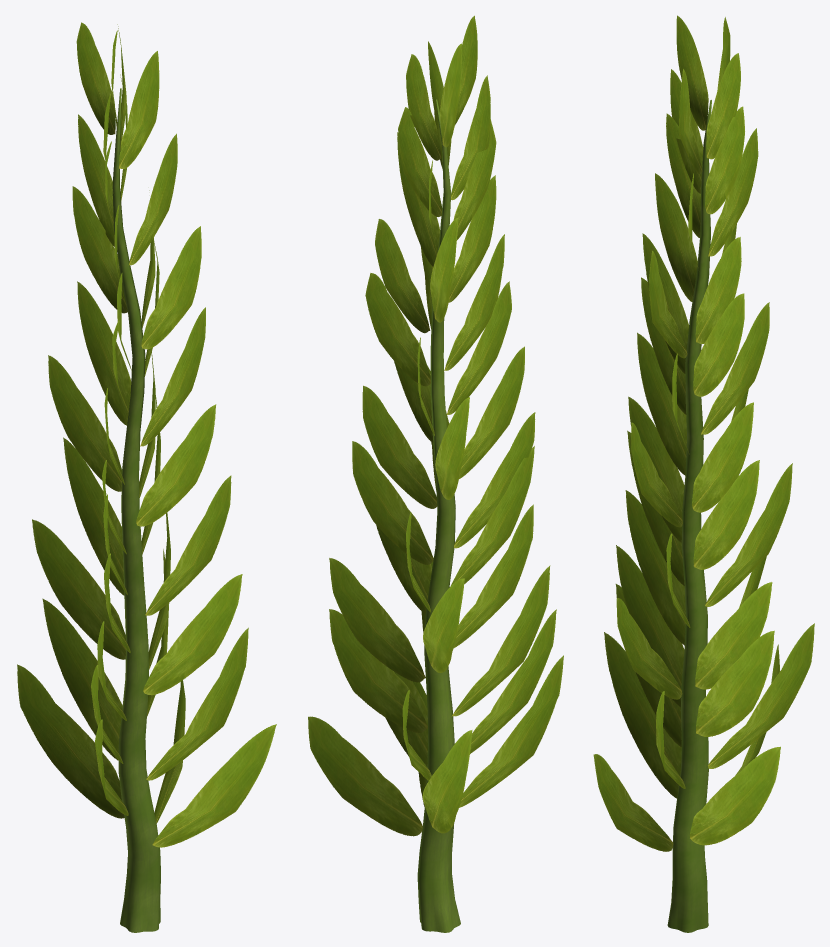
The model's file is SM_Kelp_01.fbx.
3 renders of one model, left to right at view 1: azimuth 30°, elevation 25°; view 2: azimuth 150°, elevation 25°; view 3: azimuth 270°, elevation 25°, orthographic.
Visible parts, largest first — view 1: leaf palm_1, plant01_0; view 2: leaf palm_1, plant01_0; view 3: leaf palm_1, plant01_0.
Boxes of the visible parts, x1,y1,x2,y2 form: leaf palm_1: [17, 22, 276, 847]; plant01_0: [112, 88, 160, 932]; leaf palm_1: [308, 15, 563, 836]; plant01_0: [417, 99, 460, 932]; leaf palm_1: [593, 15, 814, 851]; plant01_0: [667, 100, 711, 932].
Bounding box in the file's own units: 33.58 × 165 × 36.92.
